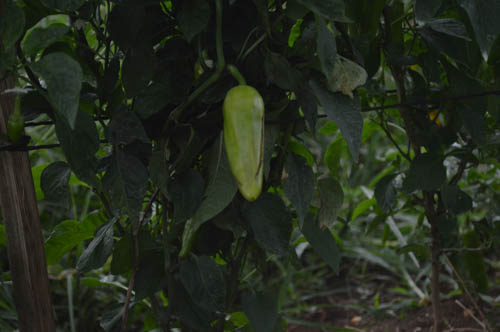ChiliPepper: (223, 87, 269, 200)
